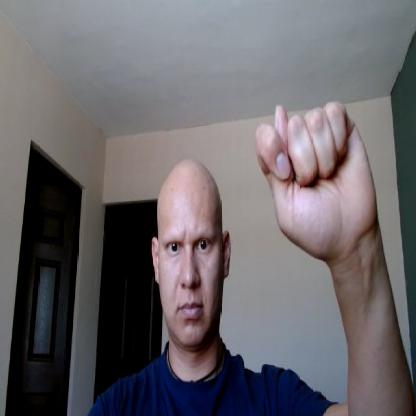T: (254, 94, 376, 258)
